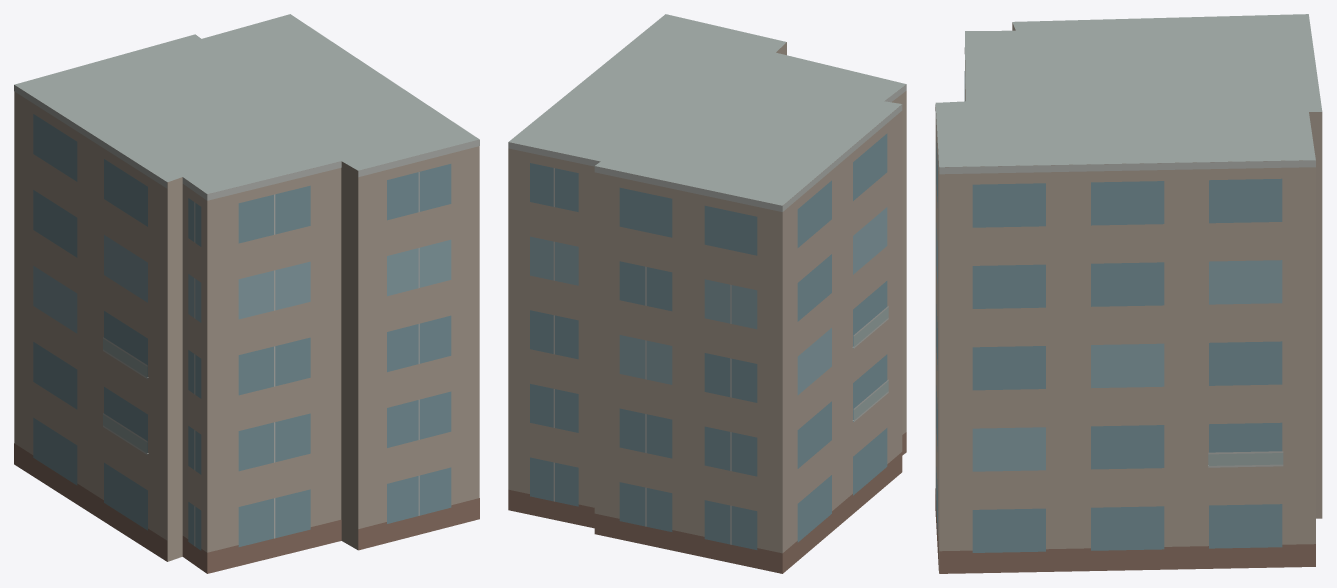
File: survey-upis-32892433.glb
3 renders of one model, left to right at view 1: azimuth 30°, elevation 25°; view 2: azimuth 150°, elevation 25°; view 3: azimuth 270°, elevation 25°, orthographic. The views are drawn at different scales.
Visible parts, largest first — view 1: survey-upis-32892433.tmp; view 2: survey-upis-32892433.tmp; view 3: survey-upis-32892433.tmp.
Part boxes in pixels (bbox=[...]): survey-upis-32892433.tmp: bbox=[14, 14, 479, 573]; survey-upis-32892433.tmp: bbox=[508, 14, 906, 573]; survey-upis-32892433.tmp: bbox=[935, 14, 1322, 573].
Bounding box in the file's own units: 11.4 × 14.1 × 12.17.
